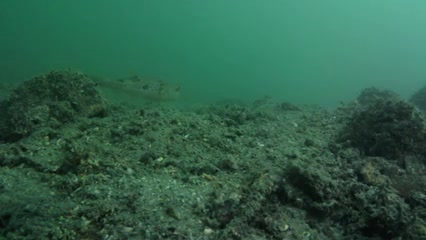hugu: (94, 68, 182, 98)
